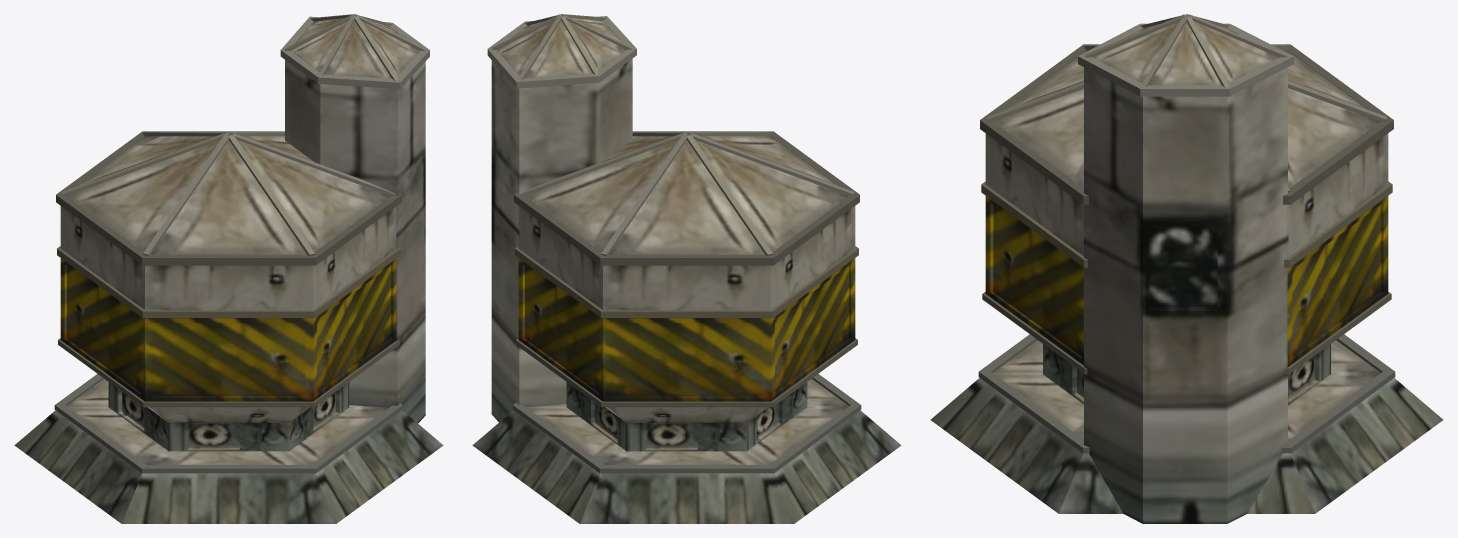
File: smallfueltank_cad.glb
3 renders of one model, left to right at view 1: azimuth 30°, elevation 25°; view 2: azimuth 150°, elevation 25°; view 3: azimuth 270°, elevation 25°, orthographic. The views are drawn at different scales.
Visible parts, largest first — view 1: smallfueltank; view 2: smallfueltank; view 3: smallfueltank.
Part boxes in pixels (box(x1,y1,x2,y2)): smallfueltank: box(14, 14, 443, 523); smallfueltank: box(472, 14, 901, 523); smallfueltank: box(930, 14, 1443, 523).
Size of the model in its own units: 7.72 by 8.6 by 8.38.
1 material, 1 textured.
